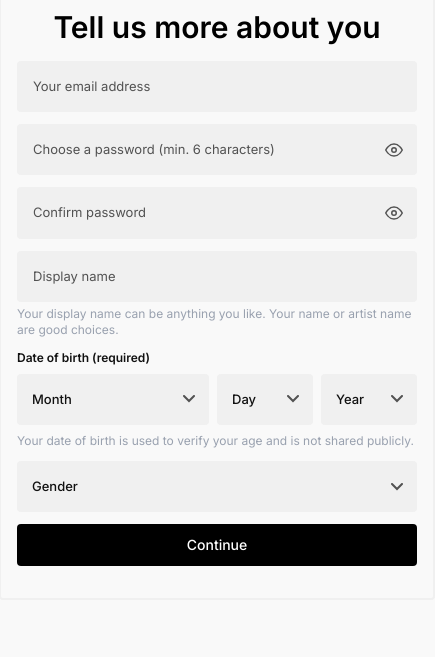
Test: RegisterationForm › shows schema validation errors on empty submit
The width and height of the screenshot is (435, 657).
Click the button "Continue": (217, 545) 17,524 -> 417,566
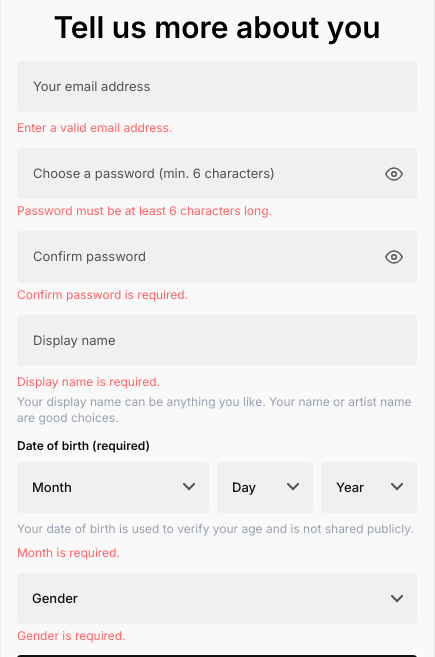
Result: the text "Enter a valid email address." is shown at 17,120 -> 172,135
Result: the text "Password must be at least 6 characters long." is shown at 17,203 -> 272,218
Result: the text "Confirm password is required." is shown at 17,287 -> 188,302
